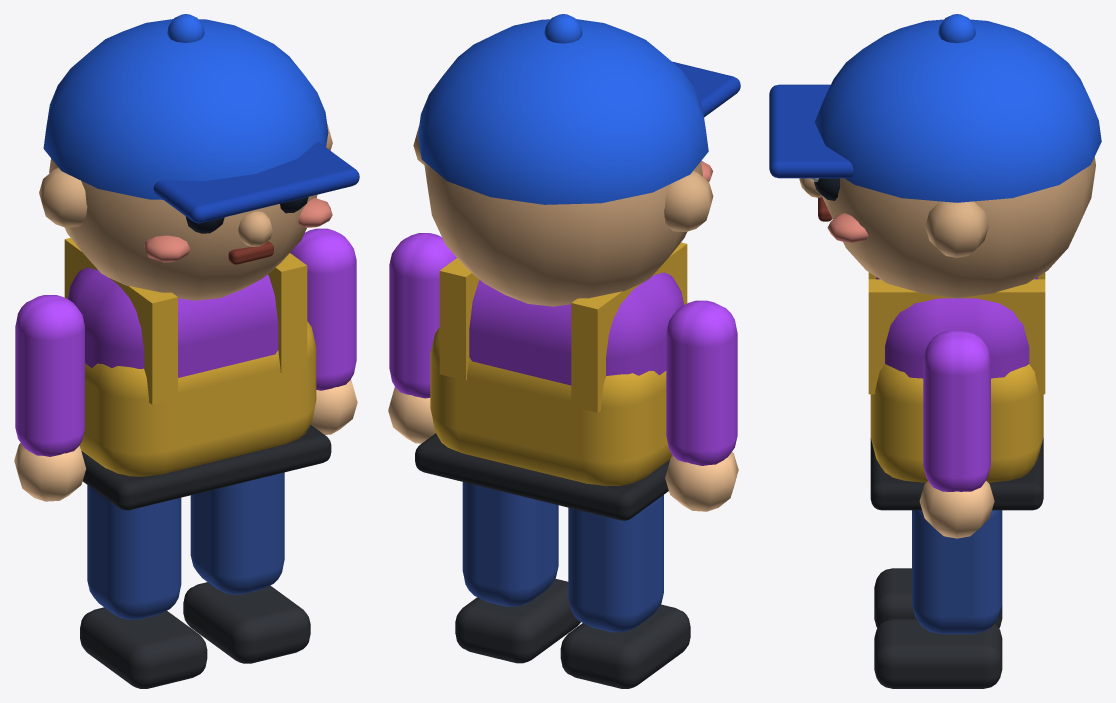
Rendered from person_polisher.glb.
3 renders of one model, left to right at view 1: azimuth 30°, elevation 25°; view 2: azimuth 150°, elevation 25°; view 3: azimuth 270°, elevation 25°, orthographic. The views are drawn at different scales.
Visible parts, largest first — view 1: Torso, Hat, LegL, LegR, ArmL, ArmR; view 2: Torso, Hat, LegL, LegR, ArmL, ArmR; view 3: Torso, Hat, LegR, ArmR, LegL.
Part boxes in pixels (left/top/right/bottom): Torso: left=39, top=123, right=332, bottom=510; Hat: left=43, top=14, right=359, bottom=223; LegL: left=80, top=485, right=207, bottom=688; LegR: left=183, top=472, right=310, bottom=663; ArmL: left=14, top=295, right=86, bottom=501; ArmR: left=290, top=228, right=357, bottom=434; Torso: left=413, top=126, right=713, bottom=520; Hat: left=418, top=14, right=740, bottom=204; LegL: left=560, top=495, right=690, bottom=688; LegR: left=455, top=482, right=580, bottom=663; ArmL: left=665, top=300, right=738, bottom=511; ArmR: left=388, top=233, right=456, bottom=443; Torso: left=799, top=157, right=1095, bottom=510; Hat: left=769, top=14, right=1101, bottom=202; LegR: left=874, top=510, right=1002, bottom=688; ArmR: left=919, top=330, right=994, bottom=538; LegL: left=874, top=568, right=1002, bottom=628.
Size of the model in its own units: 1.04 by 1.86 by 0.885.
